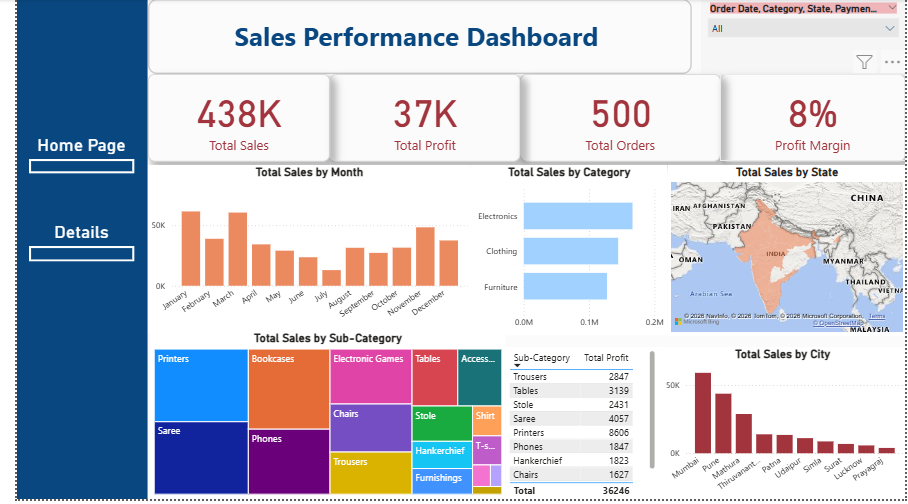

This screenshot's page, from the dashboard's own definition file:
{"tool":"powerbi","page":{"name":"Page 1","canvas":[1280,720],"ordinal":0},"visuals":[{"type":"textbox","box":[0,0,188.3,720],"z":0},{"type":"clusteredColumnChart","fields":{"Y":["Measures (2).Total Sales"],"Category":["Orders.Order Date.Variation.Date Hierarchy.Month"]},"box":[188.1,238.5,465.3,241.9],"z":0,"group":"g1"},{"type":"textbox","box":[188.3,0,783.3,108.3],"z":1000},{"type":"clusteredBarChart","fields":{"Y":["Measures (2).Total Sales"],"Category":["Details.Category"]},"box":[653.3,238.3,283.3,245],"z":1000,"group":"g1"},{"type":"card","fields":{"Values":["Measures (2).Total Sales"]},"box":[188.1,107.5,262,126],"z":2000},{"type":"treemap","fields":{"Values":["Measures (2).Total Sales"],"Group":["Details.Sub-Category"]},"box":[192.9,477.7,510,240],"z":2000,"group":"g1"},{"type":"card","fields":{"Values":["Measures (2).Total Orders"]},"box":[724,107.5,288.9,126],"z":3000},{"type":"tableEx","fields":{"Values":["Details.Sub-Category","Measures (2).Total Profit"]},"box":[703.3,500,220,220],"z":3000,"group":"g1"},{"type":"card","fields":{"Values":["Measures (2).Profit Margin"]},"box":[1012.9,107.5,267.1,126],"z":4000},{"type":"filledMap","fields":{"Category":["Orders.State"]},"box":[936.6,238.3,343.3,245],"z":4000,"group":"g1"},{"type":"card","fields":{"Values":["Measures (2).Total Profit"]},"box":[450.2,107.5,273.8,126],"z":5000},{"type":"clusteredColumnChart","fields":{"Category":["Orders.City"],"Y":["Measures (2).Total Sales"]},"box":[923.3,500,356.7,220],"z":5000,"group":"g1"},{"type":"group","id":"g1","title":"Group 1","box":[188.1,238.3,1091.9,481.7],"z":6000},{"type":"actionButton","title":"Details","box":[16.7,320,151.7,58.3],"z":7000},{"type":"actionButton","title":"Home Page","box":[16.7,195,151.7,56.7],"z":8000},{"type":"slicer","fields":{"Values":["Orders.Order Date","Details.Category","Orders.State","Details.PaymentMode"]},"box":[985,0,295,108.3],"z":10000}]}

Visuals, with their boxes in screenshot pixels (x1, y1, x2, y2):
textbox: left=14, top=0, right=144, bottom=497
clusteredColumnChart - Measures (2).Total Sales x Orders.Order Date.Variation.Date Hierarchy.Month: left=144, top=165, right=465, bottom=331
textbox: left=144, top=0, right=684, bottom=75
clusteredBarChart - Measures (2).Total Sales x Details.Category: left=465, top=164, right=660, bottom=333
card - Measures (2).Total Sales: left=144, top=74, right=325, bottom=161
treemap - Measures (2).Total Sales x Details.Sub-Category: left=147, top=330, right=499, bottom=495
card - Measures (2).Total Orders: left=514, top=74, right=713, bottom=161
tableEx - Details.Sub-Category x Measures (2).Total Profit: left=499, top=345, right=651, bottom=497
card - Measures (2).Profit Margin: left=713, top=74, right=897, bottom=161
filledMap - Orders.State: left=660, top=164, right=897, bottom=333
card - Measures (2).Total Profit: left=325, top=74, right=514, bottom=161
clusteredColumnChart - Orders.City x Measures (2).Total Sales: left=651, top=345, right=897, bottom=497
"Group 1" group: left=144, top=164, right=897, bottom=497
"Details" actionButton: left=26, top=221, right=130, bottom=261
"Home Page" actionButton: left=26, top=135, right=130, bottom=174
slicer - Orders.Order Date x Details.Category: left=694, top=0, right=897, bottom=75
